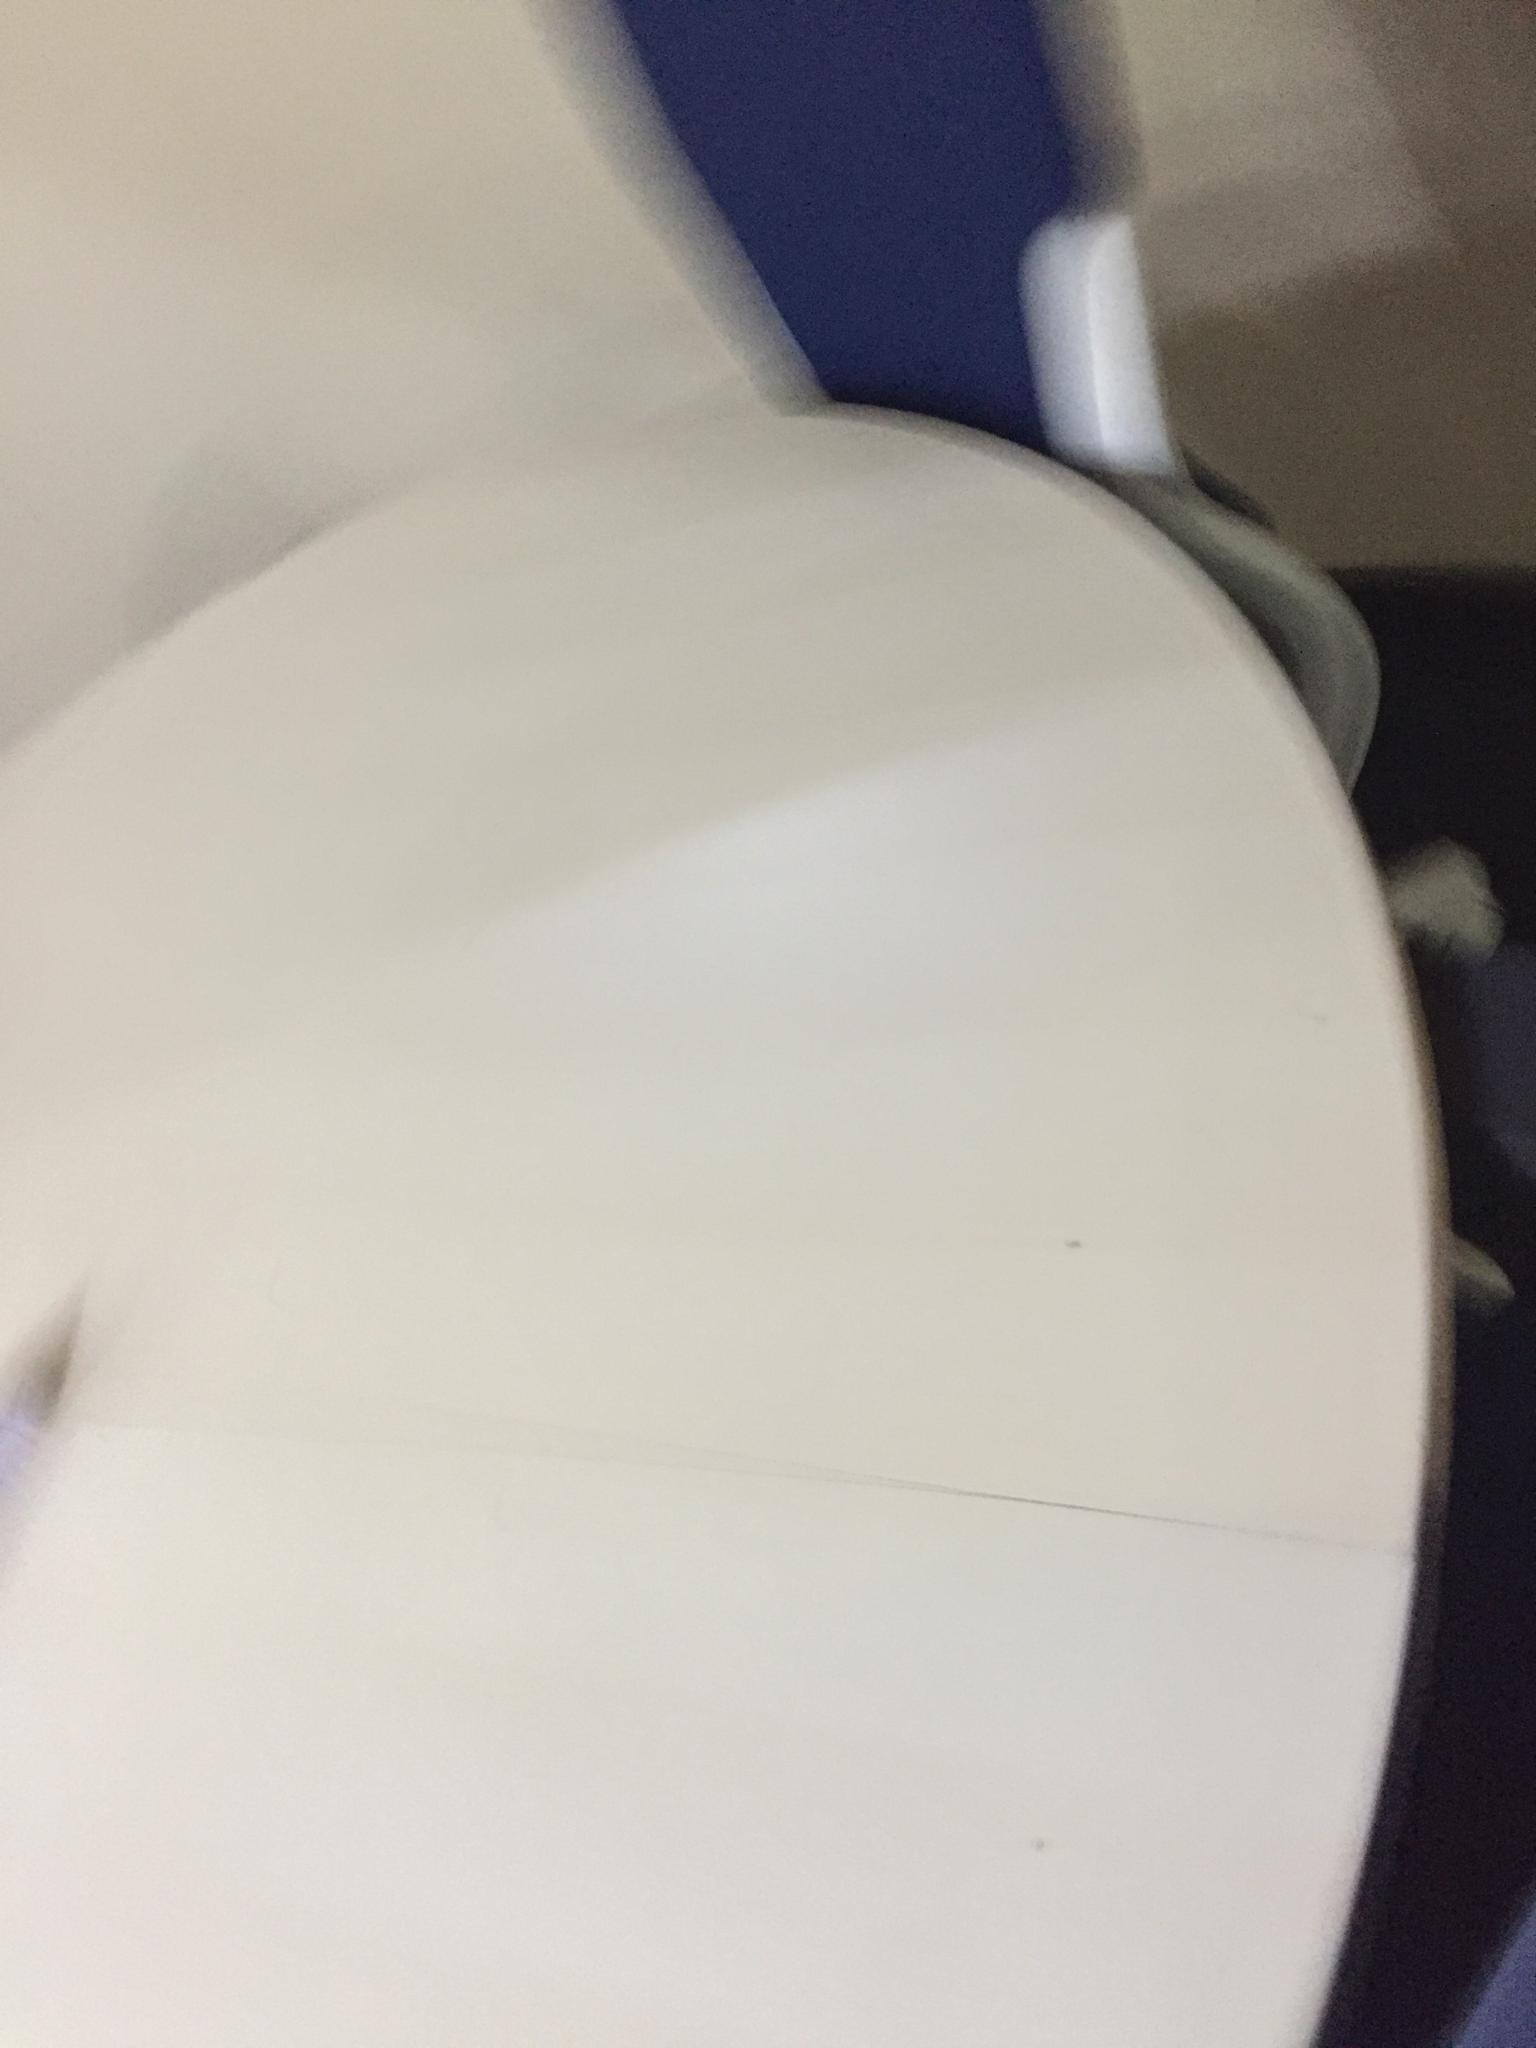chair: (2, 2, 1468, 2043)
